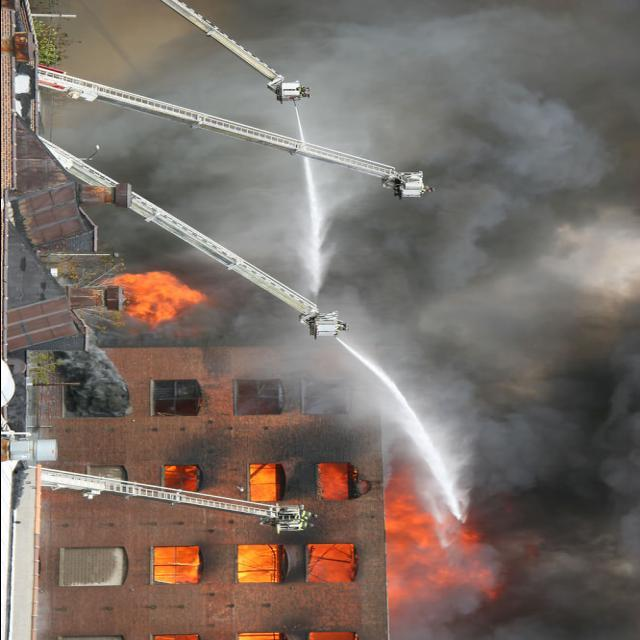Fire: (384, 494, 504, 610), (116, 256, 212, 332), (308, 546, 348, 587), (154, 548, 196, 584), (236, 546, 274, 582), (316, 462, 348, 502), (246, 465, 278, 505), (162, 467, 198, 490), (310, 632, 352, 640)
